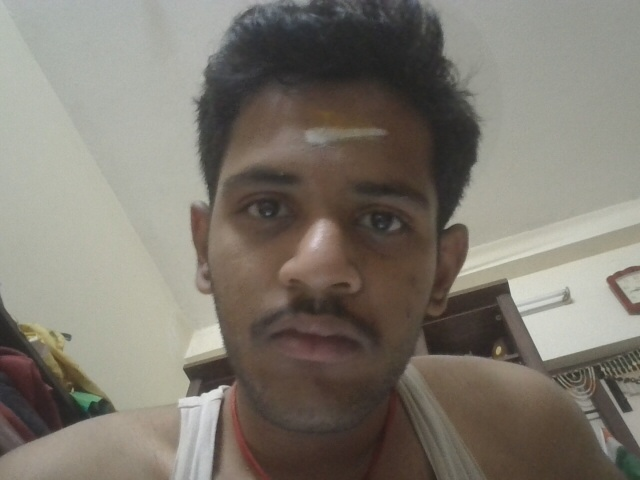real: (167, 89, 482, 404)
